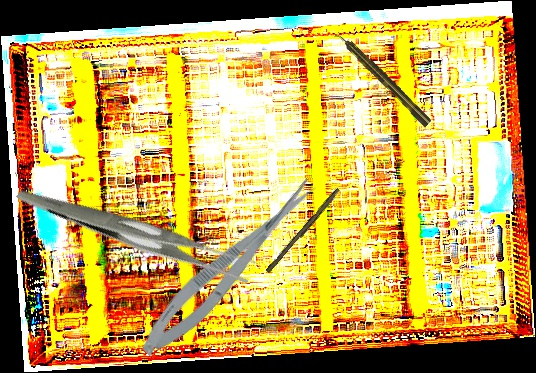Dressing Forceps: (16, 123, 260, 339)
Handpiece: (333, 28, 433, 129)
Micro Scissor: (130, 171, 329, 366)
Scalpel Handle: (265, 186, 342, 276)
